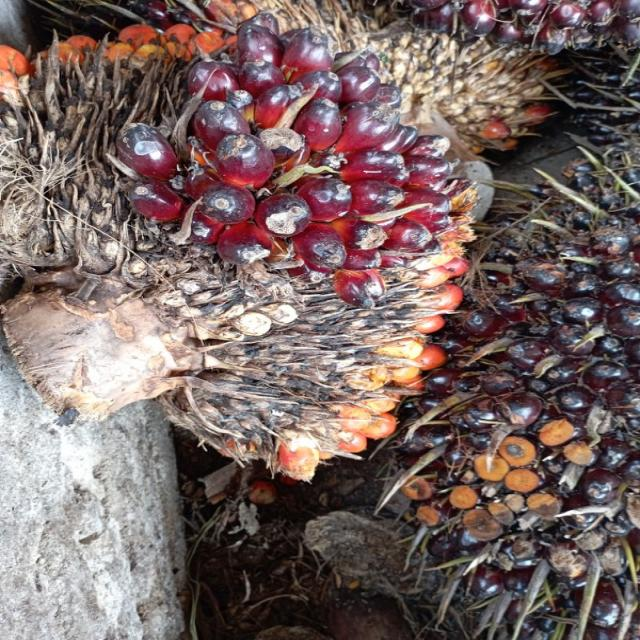fraksi 3: (0, 0, 491, 475)
